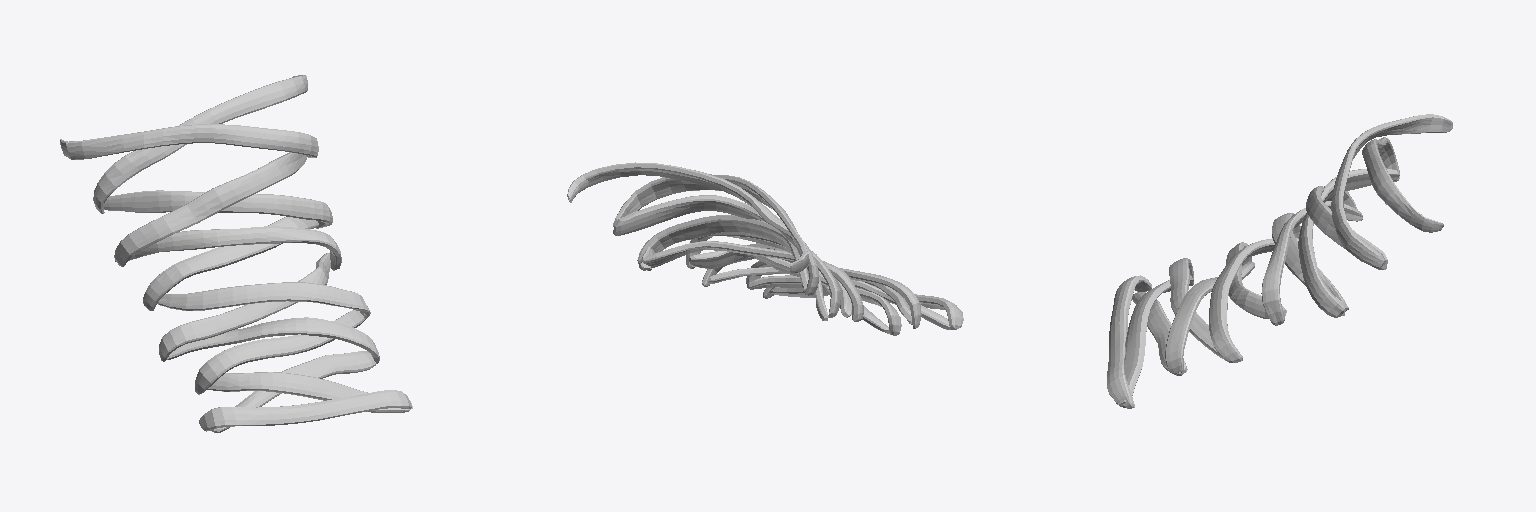
3 views of the same model, side by side, from view 1: azimuth 30°, elevation 25°; view 2: azimuth 150°, elevation 25°; view 3: azimuth 270°, elevation 25° (orthographic).
Parts seen in each view (by area): view 1: Cordonera; view 2: Cordonera; view 3: Cordonera.
Part boxes in pixels (x1,y1,x2,y2): Cordonera: (60, 75, 412, 432); Cordonera: (567, 162, 963, 335); Cordonera: (1107, 114, 1452, 408).
Size of the model in its own units: 0.076 by 0.0687 by 0.0928.